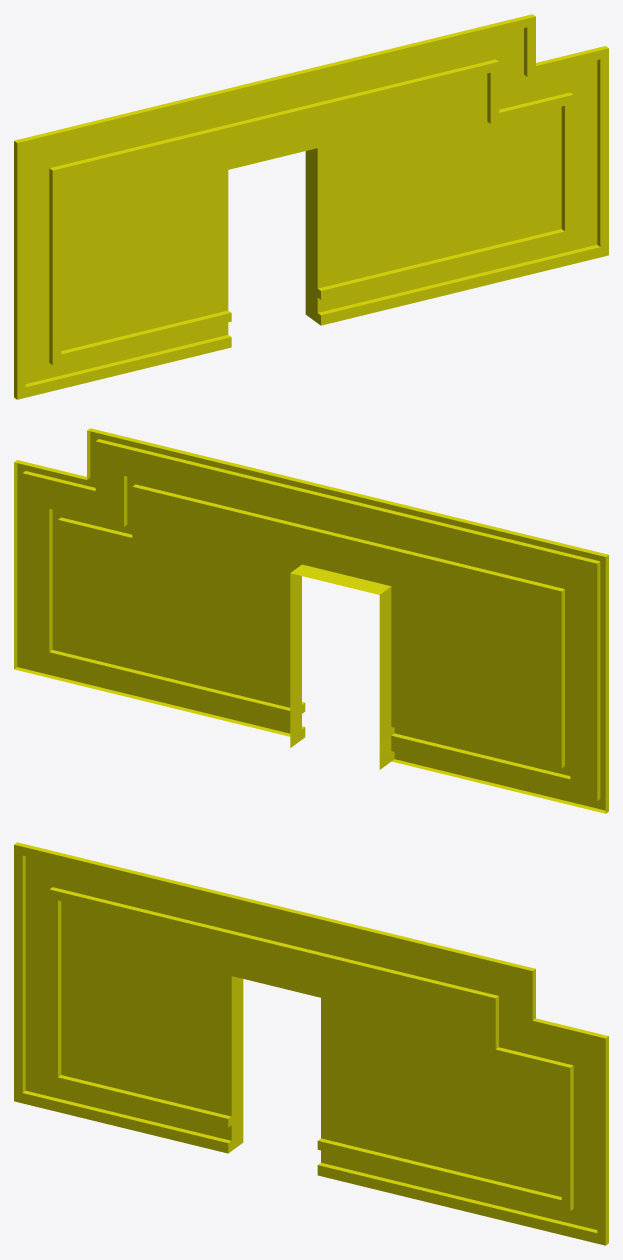
File: Cell2WallDoor.fbx
3 renders of one model, top to bottom at view 1: azimuth 30°, elevation 25°; view 2: azimuth 150°, elevation 25°; view 3: azimuth 330°, elevation 25°, orthographic.
Visible parts, largest first — view 1: Cell2WallDoor; view 2: Cell2WallDoor; view 3: Cell2WallDoor.
Part boxes in pixels (left/top/right/bottom): Cell2WallDoor: left=14, top=14, right=608, bottom=399; Cell2WallDoor: left=14, top=428, right=608, bottom=813; Cell2WallDoor: left=14, top=842, right=608, bottom=1245.
Size of the model in its own units: 834 by 346 by 37.
